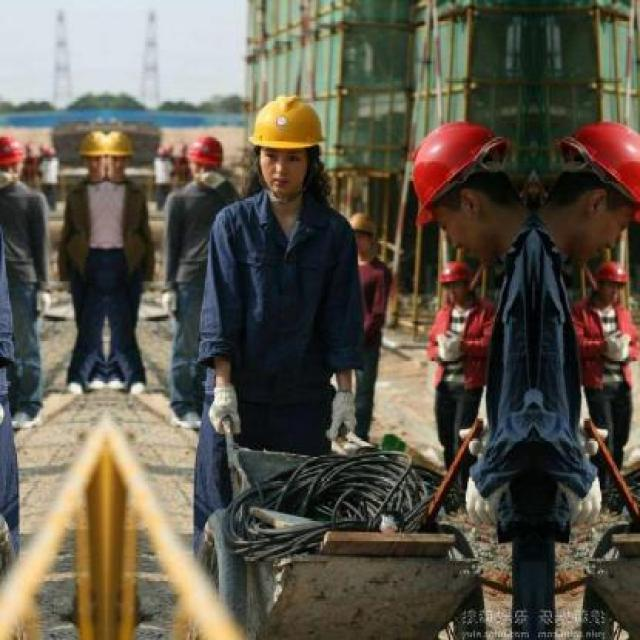helmet: (409, 120, 524, 258), (540, 120, 637, 258), (248, 94, 328, 198), (186, 136, 223, 187), (432, 260, 472, 303), (592, 260, 632, 303), (0, 135, 28, 188), (344, 212, 378, 255), (107, 130, 137, 175), (76, 130, 106, 175)
